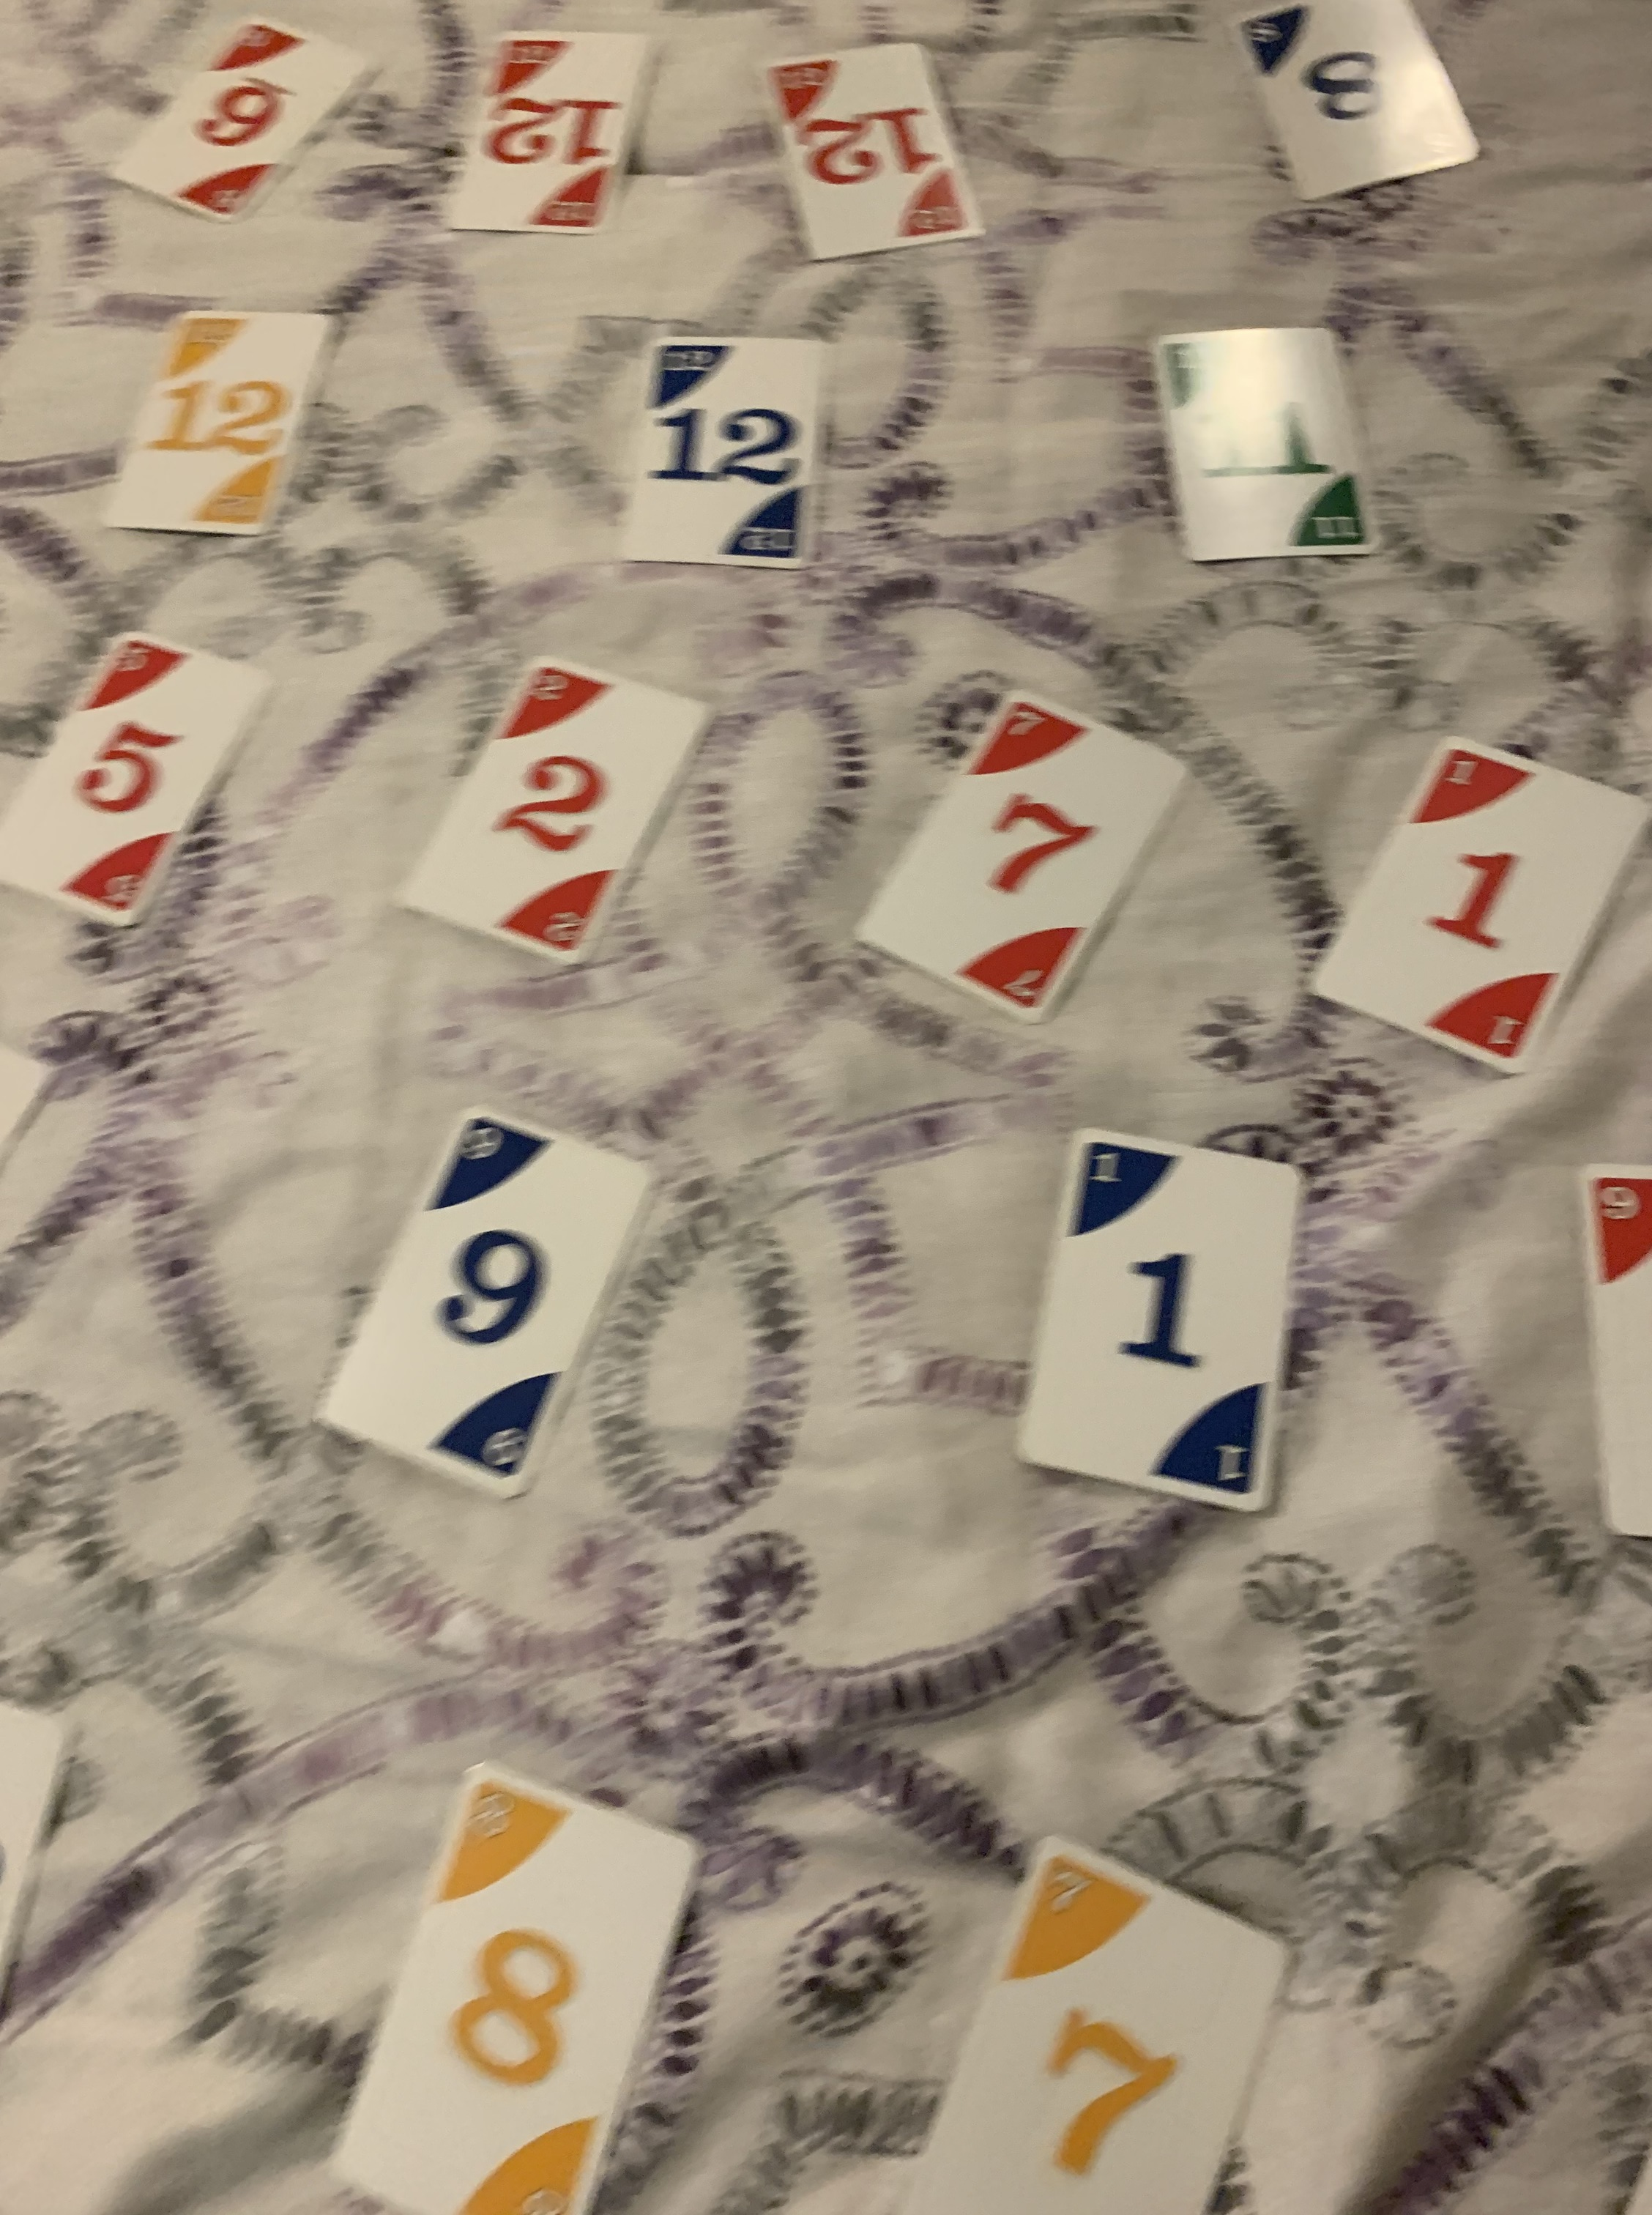eight: (325, 1762, 722, 2215), (1229, 0, 1494, 220)
eleven: (1140, 330, 1390, 569)
five: (0, 628, 278, 939)
nine: (307, 1095, 658, 1493), (116, 9, 378, 219)
one: (1005, 1125, 1312, 1522), (1296, 733, 1652, 1075)
seven: (894, 1833, 1310, 2215), (854, 689, 1189, 1031)
twelve: (99, 299, 337, 536), (750, 40, 989, 267), (625, 325, 831, 578), (437, 24, 666, 246)
two: (394, 654, 713, 976)
